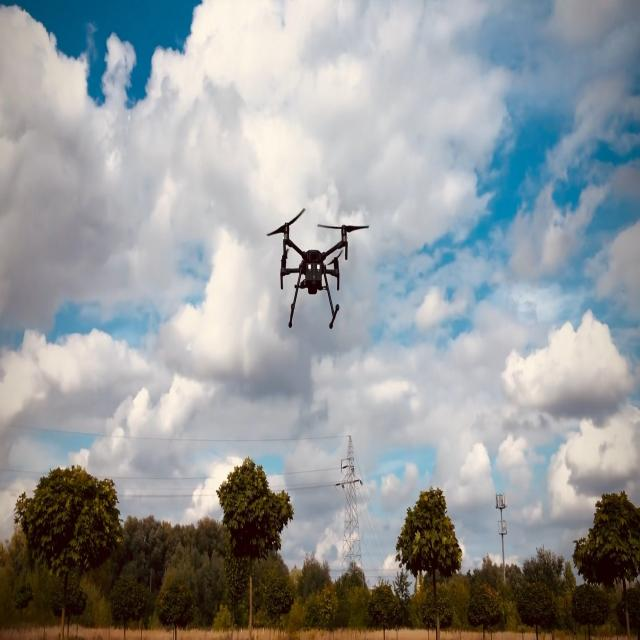drone: (266, 207, 369, 330)
